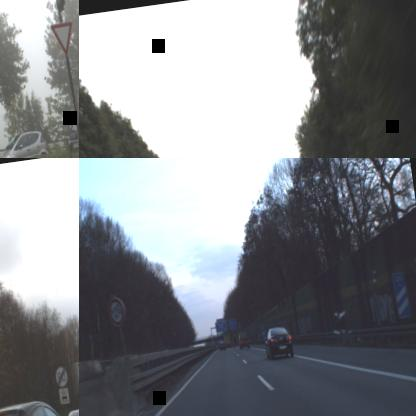give way: (48, 20, 76, 58)
restriction ends: (53, 364, 69, 388)
speed limit 120: (105, 294, 127, 328)
